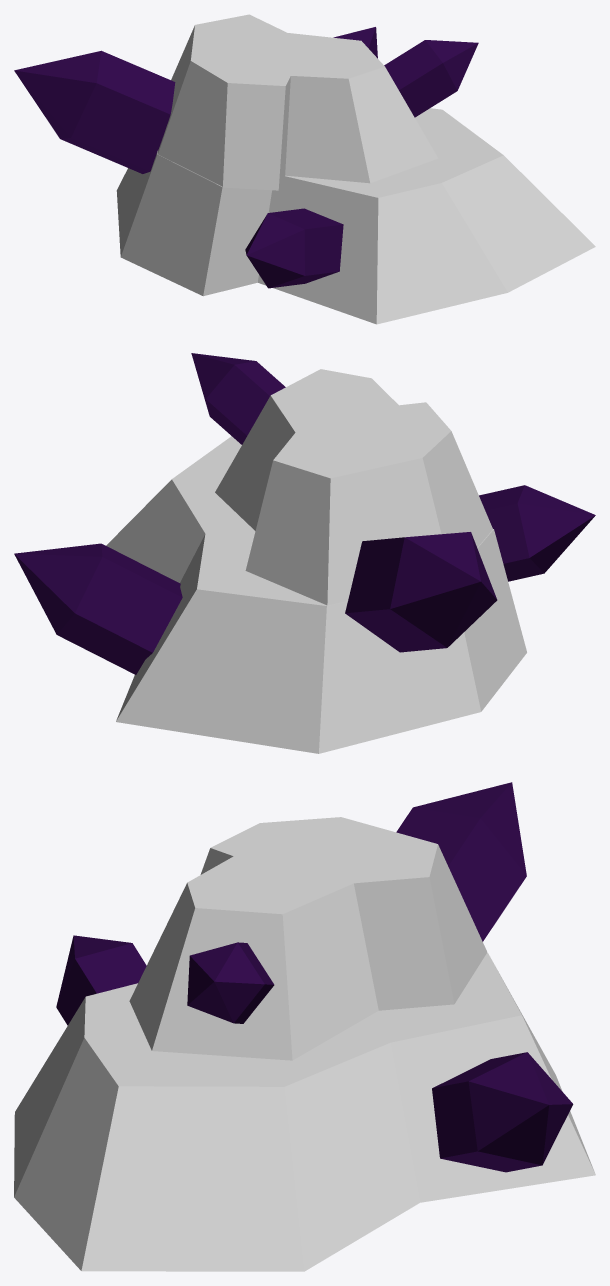
File: Obsidiana_Tipo1.fbx
3 renders of one model, top to bottom at view 1: azimuth 30°, elevation 25°; view 2: azimuth 150°, elevation 25°; view 3: azimuth 270°, elevation 25°, orthographic. The views are drawn at different scales.
Parts seen in each view (by area): view 1: base.008, obsidiana.002, obsidiana.003, obsidiana, obsidiana.001; view 2: base.008, obsidiana.002, obsidiana.001, obsidiana.003, obsidiana; view 3: base.008, obsidiana.001, obsidiana.002, obsidiana, obsidiana.003.
Boxes of the visible parts, x1,y1,x2,y2 form: base.008: [116, 14, 595, 324]; obsidiana.002: [14, 50, 175, 173]; obsidiana.003: [245, 208, 343, 288]; obsidiana: [384, 40, 478, 117]; obsidiana.001: [333, 27, 377, 58]; base.008: [106, 369, 526, 753]; obsidiana.002: [345, 532, 497, 652]; obsidiana.001: [14, 543, 182, 674]; obsidiana.003: [479, 485, 595, 581]; obsidiana: [191, 353, 285, 444]; base.008: [14, 817, 595, 1271]; obsidiana.001: [432, 1052, 573, 1172]; obsidiana.002: [396, 782, 526, 941]; obsidiana: [187, 942, 274, 1023]; obsidiana.003: [56, 935, 146, 1025].
Bounding box in the file's own units: 152 × 65.85 × 136.
